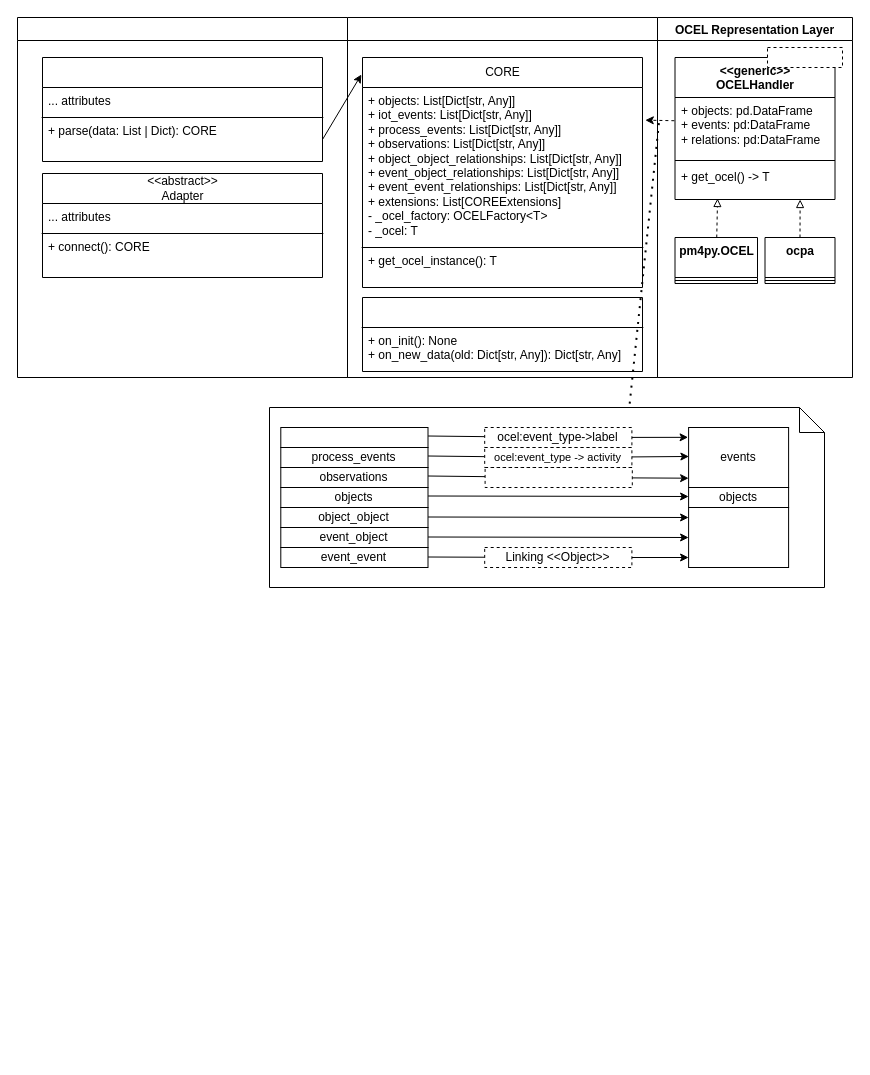
Some shapes in this 870 by 1075 pixel diagram are drawn without their labels. The shapes that lost their labels are listed below. From the top down, each one's box as (x1, y1, x2, y2) in pixels, then its label:
(766, 46, 842, 68): T: Class
(42, 56, 322, 162): <<abstract>> Parser
(16, 16, 348, 378): Input Layer
(346, 16, 658, 378): Data Transformation Layer
(362, 296, 642, 372): <<abstract>> COREExtensions
(280, 426, 428, 448): iot_events
(484, 466, 632, 488): ocel:event_type->"observation"
(688, 506, 789, 568): relations
